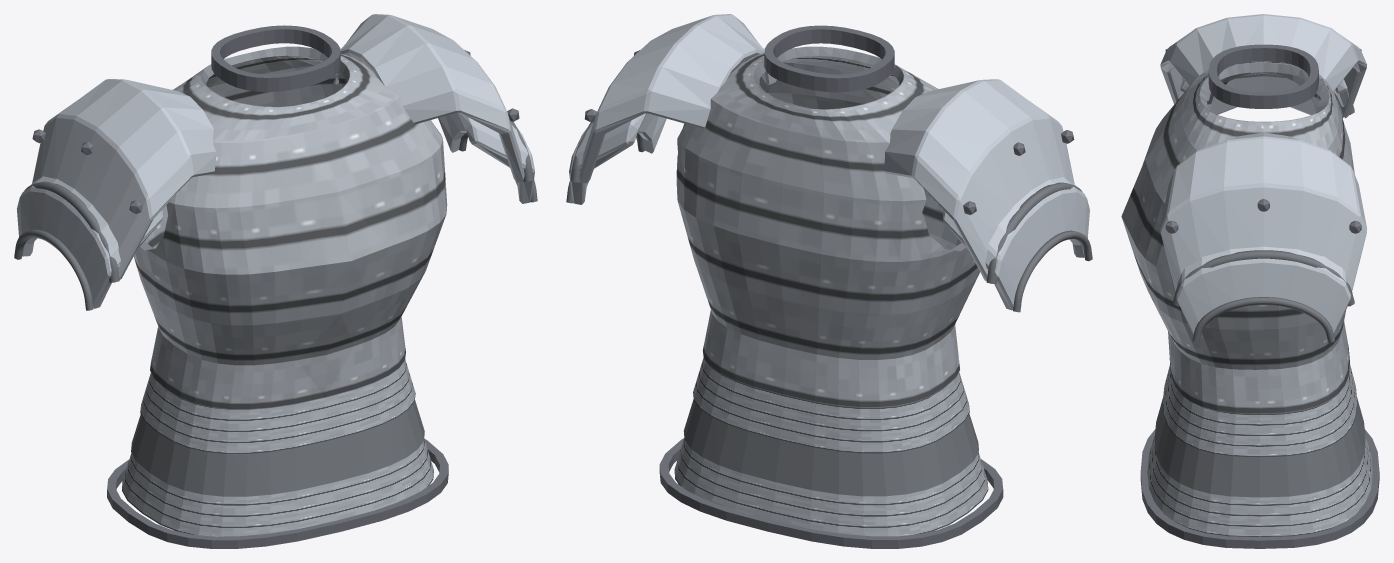
File: tin_armor.obj
3 views of the same model, side by side, from view 1: azimuth 30°, elevation 25°; view 2: azimuth 150°, elevation 25°; view 3: azimuth 270°, elevation 25° (orthographic). The views are drawn at different scales.
Visible parts, largest first — view 1: A_Torso.001_tin_armor_body, K_CrowningShoulder.001_tin_armor_shoulder_shell, D_Skirt2.001_tin_armor_body, D_Skirt1.001_tin_armor_shade, D_Skirt0.001_tin_armor_body, K_OverlappingLame0.001_tin_armor_shoulder_shell, B_HemTrim.001_tin_armor_trim, B_NeckTrim.001_tin_armor_trim, K_RaisedLip.001_tin_armor_shoulder_overlap, K_LameLip0.001_tin_armor_shoulder_overlap; view 2: A_Torso.001_tin_armor_body, K_CrowningShoulder.001_tin_armor_shoulder_shell, D_Skirt2.001_tin_armor_body, D_Skirt1.001_tin_armor_shade, D_Skirt0.001_tin_armor_body, K_OverlappingLame0.001_tin_armor_shoulder_shell, B_HemTrim.001_tin_armor_trim, B_NeckTrim.001_tin_armor_trim, K_RaisedLip.001_tin_armor_shoulder_overlap, K_LameLip0.001_tin_armor_shoulder_overlap; view 3: A_Torso.001_tin_armor_body, K_CrowningShoulder.001_tin_armor_shoulder_shell, K_OverlappingLame0.001_tin_armor_shoulder_shell, D_Skirt2.001_tin_armor_body, D_Skirt1.001_tin_armor_shade, D_Skirt0.001_tin_armor_body, B_HemTrim.001_tin_armor_trim, B_NeckTrim.001_tin_armor_trim, K_LameLip0.001_tin_armor_shoulder_overlap, K_RaisedLip.001_tin_armor_shoulder_overlap.
Boxes of the visible parts, bbox=[...] form: A_Torso.001_tin_armor_body: bbox=[133, 46, 447, 409]; K_CrowningShoulder.001_tin_armor_shoulder_shell: bbox=[32, 14, 524, 279]; D_Skirt2.001_tin_armor_body: bbox=[122, 439, 433, 536]; D_Skirt1.001_tin_armor_shade: bbox=[131, 400, 424, 496]; D_Skirt0.001_tin_armor_body: bbox=[140, 359, 415, 454]; K_OverlappingLame0.001_tin_armor_shoulder_shell: bbox=[17, 113, 534, 308]; B_HemTrim.001_tin_armor_trim: bbox=[107, 438, 448, 548]; B_NeckTrim.001_tin_armor_trim: bbox=[211, 25, 340, 91]; K_RaisedLip.001_tin_armor_shoulder_overlap: bbox=[24, 122, 533, 282]; K_LameLip0.001_tin_armor_shoulder_overlap: bbox=[14, 132, 537, 310]; A_Torso.001_tin_armor_body: bbox=[676, 46, 979, 407]; K_CrowningShoulder.001_tin_armor_shoulder_shell: bbox=[579, 14, 1074, 281]; D_Skirt2.001_tin_armor_body: bbox=[674, 439, 988, 536]; D_Skirt1.001_tin_armor_shade: bbox=[683, 399, 978, 496]; D_Skirt0.001_tin_armor_body: bbox=[693, 358, 969, 453]; K_OverlappingLame0.001_tin_armor_shoulder_shell: bbox=[569, 113, 1089, 310]; B_HemTrim.001_tin_armor_trim: bbox=[659, 438, 1003, 548]; B_NeckTrim.001_tin_armor_trim: bbox=[764, 25, 894, 92]; K_RaisedLip.001_tin_armor_shoulder_overlap: bbox=[570, 122, 1082, 284]; K_LameLip0.001_tin_armor_shoulder_overlap: bbox=[566, 133, 1092, 312]; A_Torso.001_tin_armor_body: bbox=[1121, 61, 1354, 413]; K_CrowningShoulder.001_tin_armor_shoulder_shell: bbox=[1160, 14, 1366, 291]; K_OverlappingLame0.001_tin_armor_shoulder_shell: bbox=[1176, 72, 1350, 334]; D_Skirt2.001_tin_armor_body: bbox=[1147, 435, 1372, 536]; D_Skirt1.001_tin_armor_shade: bbox=[1154, 397, 1365, 497]; D_Skirt0.001_tin_armor_body: bbox=[1163, 364, 1357, 457]; B_HemTrim.001_tin_armor_trim: bbox=[1140, 429, 1379, 548]; B_NeckTrim.001_tin_armor_trim: bbox=[1208, 44, 1318, 108]; K_LameLip0.001_tin_armor_shoulder_overlap: bbox=[1192, 297, 1334, 342]; K_RaisedLip.001_tin_armor_shoulder_overlap: bbox=[1173, 105, 1354, 306].
Bounding box in the file's own units: 2.69 × 2.46 × 1.4.
